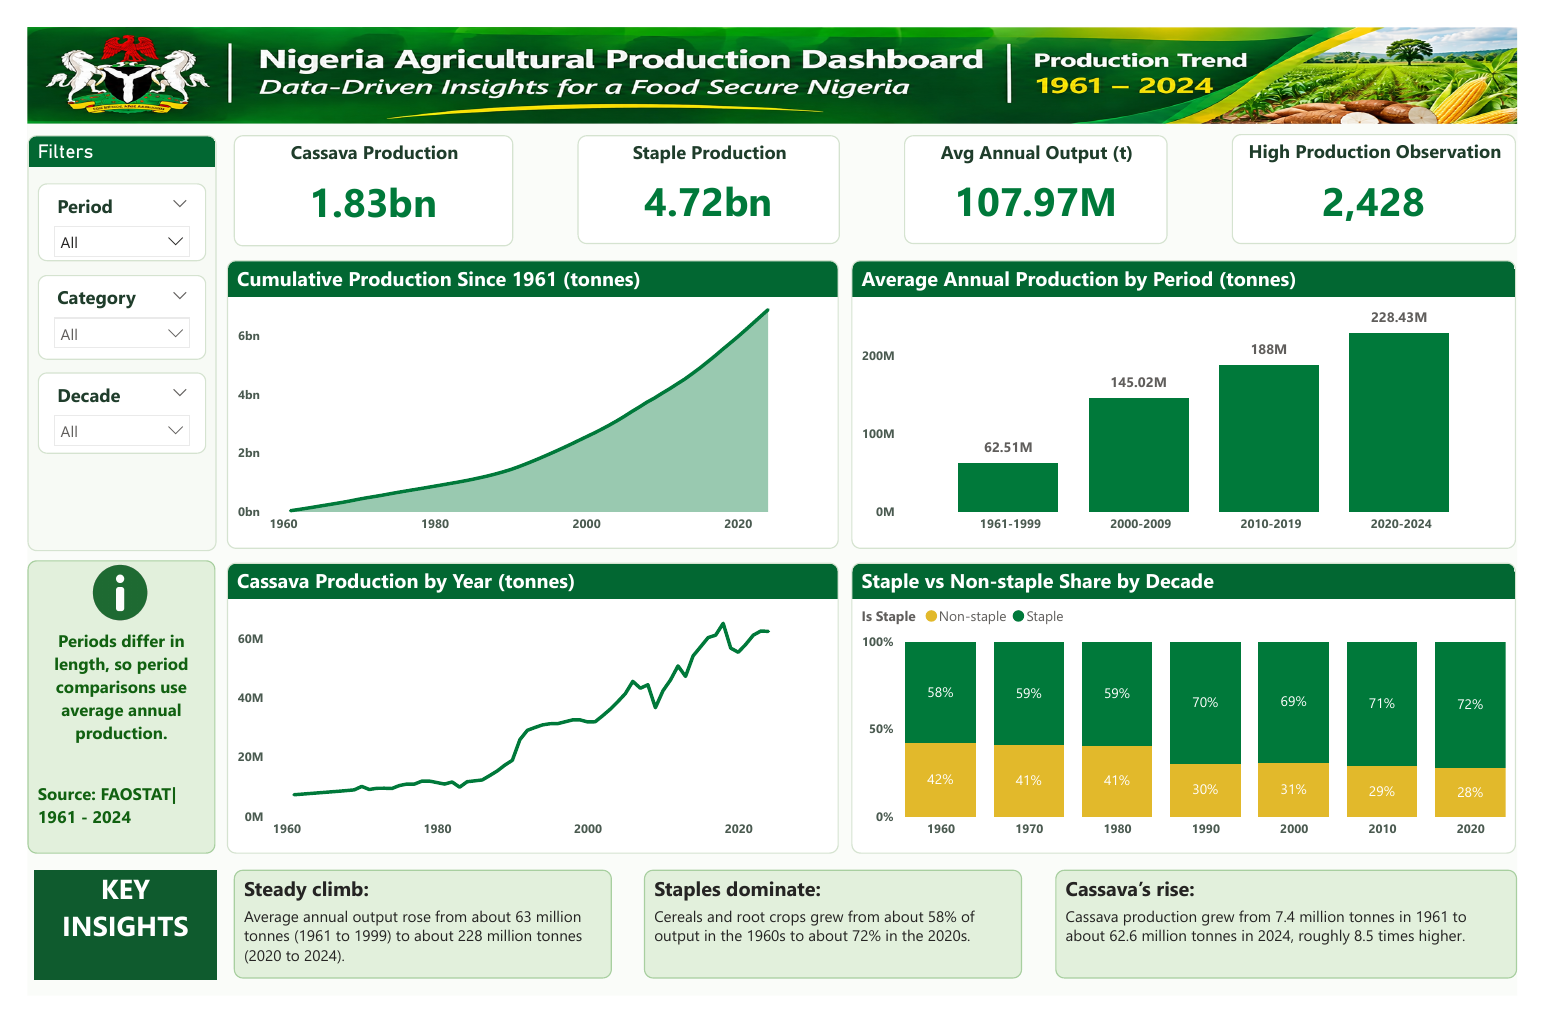

What the dashboard file says about the page in this screenshot:
{"tool":"powerbi","page":{"name":"Production Trend","canvas":[1300,845],"ordinal":1},"visuals":[{"type":"image","box":[0,0,1300,84.3],"z":0},{"type":"card","title":"Cassava Production","fields":{"Values":["_Measures.Cassava Production"]},"box":[179.7,93.5,243.9,97.2],"z":1000},{"type":"card","title":"Staple Production","fields":{"Values":["_Measures.Staple Production"]},"box":[479.9,93.5,229.2,95.3],"z":2000},{"type":"card","title":"Avg Annual Output (t)","fields":{"Values":["_Measures.Avg Annual Production"]},"box":[765.4,93.5,229.2,95.3],"z":3000},{"type":"card","title":"High Production Observation","fields":{"Values":["_Measures.High Production Records"]},"box":[1051,93.3,248.3,95.2],"z":4000},{"type":"areaChart","title":"Cumulative Production Since 1961 (tonnes)","fields":{"Category":["Dim_Year.Year"],"Y":["_Measures.Cumulative Production"]},"box":[173.6,203.5,533.9,252],"z":5000},{"type":"clusteredColumnChart","title":"Average Annual Production by Period (tonnes)","fields":{"Category":["Fact_Production.Period"],"Y":["_Measures.Avg Annual Production"]},"box":[718.7,203.5,580.6,252],"z":6000},{"type":"lineChart","title":"Cassava Production by Year (tonnes)","fields":{"Category":["Dim_Year.Year"],"Y":["_Measures.Cassava Production"]},"box":[173.6,466.7,533.9,253.9],"z":7000},{"type":"hundredPercentStackedColumnChart","title":"Staple vs Non-staple Share by Decade","fields":{"Series":["Dim_item.Is Staple"],"Category":["Dim_Year.Decade"],"Y":["_Measures.Total Production"]},"box":[718.7,466.7,580.6,253.9],"z":8000},{"type":"textbox","title":"KEY INSIGHTS","box":[5.5,735.3,159.5,95.3],"z":9000},{"type":"textbox","title":"Steady climb:","box":[179.7,734.7,330.1,95.3],"z":10000},{"type":"textbox","title":"Staples dominate:","box":[538.2,734.7,330.1,95.3],"z":11000},{"type":"textbox","title":"Cassava’s rise:","box":[896.6,734.7,403.4,95.3],"z":12000},{"type":"textbox","title":"Filters","box":[0,93.5,165,363.1],"z":13000},{"type":"slicer","fields":{"Values":["Fact_Production.Period"]},"box":[9.2,135.7,146.7,67.8],"z":14000},{"type":"slicer","fields":{"Values":["Dim_item.Crop_Category"]},"box":[9.2,216.4,146.7,73.3],"z":15000},{"type":"slicer","fields":{"Values":["Dim_Year.Decade"]},"box":[9.2,300.7,146.7,71.5],"z":16000},{"type":"textbox","title":"<svg xmlns=\"http://www.w3.org/2000/svg\" width=\"128\" height=\"128\" viewBox=\"0 0 128 128\" xmlns:c2pa=\"http://c2pa.org/manifest\">   <circle cx=\"64\" cy=\"64\" r=\"60\" fill=\"#1F6B33\"/>   <circle cx=\"64\" cy=\"34","box":[0,464.8,164.3,255.7],"z":17000},{"type":"image","box":[56,464.8,50.4,56],"z":18000}]}

Visuals, with their boxes in screenshot pixels (x1, y1, x2, y2), scaled from the page's 1300x845 canvas onto the 1545x1024 screenshot:
image: <bbox>0, 0, 1544, 102</bbox>
"Cassava Production" card: <bbox>214, 113, 503, 231</bbox>
"Staple Production" card: <bbox>570, 113, 843, 229</bbox>
"Avg Annual Output (t)" card: <bbox>910, 113, 1182, 229</bbox>
"High Production Observation" card: <bbox>1249, 113, 1544, 228</bbox>
"Cumulative Production Since 1961 (tonnes)" areaChart: <bbox>206, 247, 841, 552</bbox>
"Average Annual Production by Period (tonnes)" clusteredColumnChart: <bbox>854, 247, 1544, 552</bbox>
"Cassava Production by Year (tonnes)" lineChart: <bbox>206, 566, 841, 873</bbox>
"Staple vs Non-staple Share by Decade" hundredPercentStackedColumnChart: <bbox>854, 566, 1544, 873</bbox>
"KEY INSIGHTS" textbox: <bbox>7, 891, 196, 1007</bbox>
"Steady climb:" textbox: <bbox>214, 890, 606, 1006</bbox>
"Staples dominate:" textbox: <bbox>640, 890, 1032, 1006</bbox>
"Cassava’s rise:" textbox: <bbox>1066, 890, 1544, 1006</bbox>
"Filters" textbox: <bbox>0, 113, 196, 553</bbox>
slicer - Fact_Production.Period: <bbox>11, 164, 185, 247</bbox>
slicer - Dim_item.Crop_Category: <bbox>11, 262, 185, 351</bbox>
slicer - Dim_Year.Decade: <bbox>11, 364, 185, 451</bbox>
"<svg xmlns="http://www.w3.org/2000/svg" width="128" height="128" viewBox="0 0 128 128" xmlns:c2pa="http://c2pa.org/manifest">   <circle cx="64" cy="64" r="60" fill="#1F6B33"/>   <circle cx="64" cy="34" textbox: <bbox>0, 563, 195, 873</bbox>
image: <bbox>67, 563, 126, 631</bbox>
